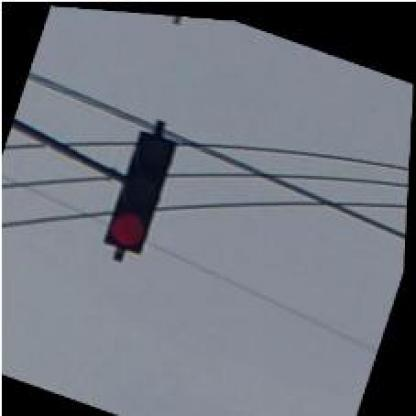red: (103, 126, 176, 256)
